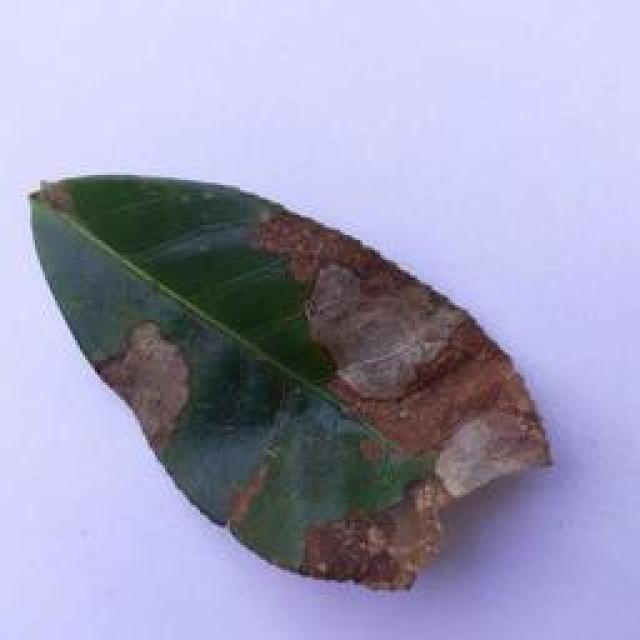Gray Blight: (22, 164, 556, 593)
